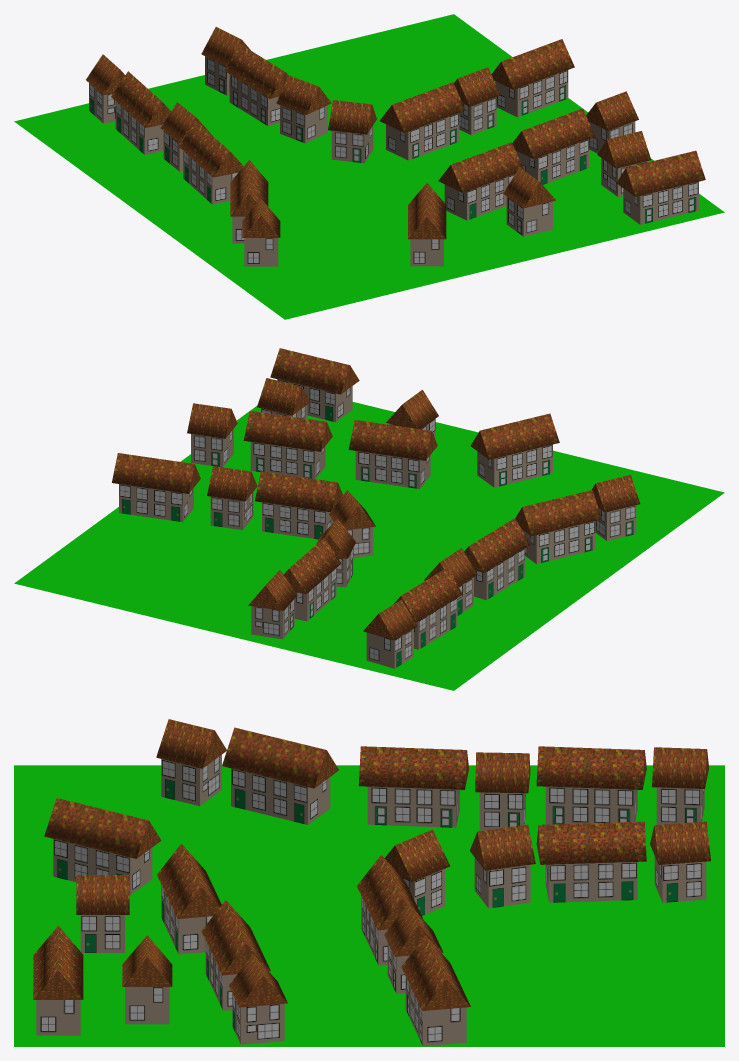
Rendered from my_village.glb.
3 renders of one model, top to bottom at view 1: azimuth 30°, elevation 25°; view 2: azimuth 150°, elevation 25°; view 3: azimuth 270°, elevation 25°, orthographic. The views are drawn at different scales.
Visible parts, largest first — view 1: ground, box_merged (×2), house5, house9, house7, house2, house12, house14, house16, house3, house11, house10 (+8 smaller); view 2: ground, box_merged (×2), house2, house7, house3, house18, house9, house5, house14, house16, house12, house8 (+8 smaller); view 3: ground, house18, house14, house12, house16, box_merged (×2), house3, house7, house5, house19, house2, house11 (+8 smaller).
Boxes of the visible parts, left/top/right/bottom form: ground: left=14, top=14, right=724, bottom=319; box_merged (×2): left=512, top=91, right=638, bottom=184; house5: left=616, top=150, right=705, bottom=224; house9: left=380, top=82, right=465, bottom=160; house7: left=491, top=39, right=574, bottom=117; house2: left=438, top=142, right=524, bottom=220; house12: left=224, top=44, right=288, bottom=125; house14: left=179, top=121, right=243, bottom=204; house16: left=111, top=71, right=170, bottom=154; house3: left=408, top=183, right=446, bottom=266; house11: left=276, top=75, right=331, bottom=143; house10: left=328, top=100, right=376, bottom=163; ground: left=14, top=402, right=724, bottom=690; box_merged (×2): left=187, top=403, right=332, bottom=478; house2: left=348, top=420, right=437, bottom=488; house7: left=112, top=453, right=200, bottom=522; house3: left=470, top=413, right=559, bottom=487; house18: left=515, top=490, right=601, bottom=563; house9: left=255, top=471, right=342, bottom=539; house5: left=270, top=348, right=359, bottom=422; house14: left=464, top=518, right=530, bottom=600; house16: left=394, top=568, right=462, bottom=649; house12: left=283, top=537, right=341, bottom=621; house8: left=207, top=466, right=257, bottom=529; ground: left=14, top=765, right=724, bottom=1046; house18: left=222, top=727, right=338, bottom=824; house14: left=358, top=746, right=468, bottom=827; house12: left=536, top=821, right=646, bottom=902; house16: left=536, top=746, right=646, bottom=824; box_merged (×2): left=201, top=900, right=287, bottom=1044; house3: left=44, top=798, right=161, bottom=895; house7: left=401, top=935, right=470, bottom=1046; house5: left=33, top=926, right=83, bottom=1035; house19: left=156, top=719, right=226, bottom=806; house2: left=157, top=843, right=221, bottom=954; house11: left=470, top=824, right=535, bottom=908.
Bounding box in the file's own units: 15.19 × 1.71 × 16.
5 materials, 4 textured.
